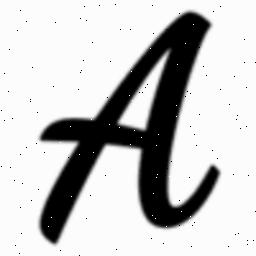a: (24, 3, 230, 237)
